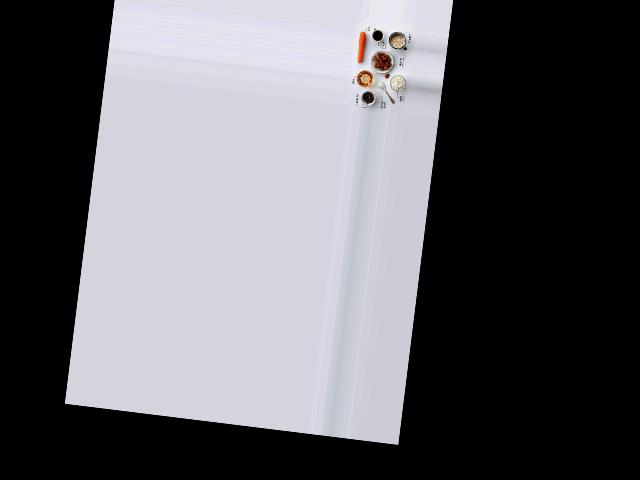carrot: (354, 28, 370, 67)
